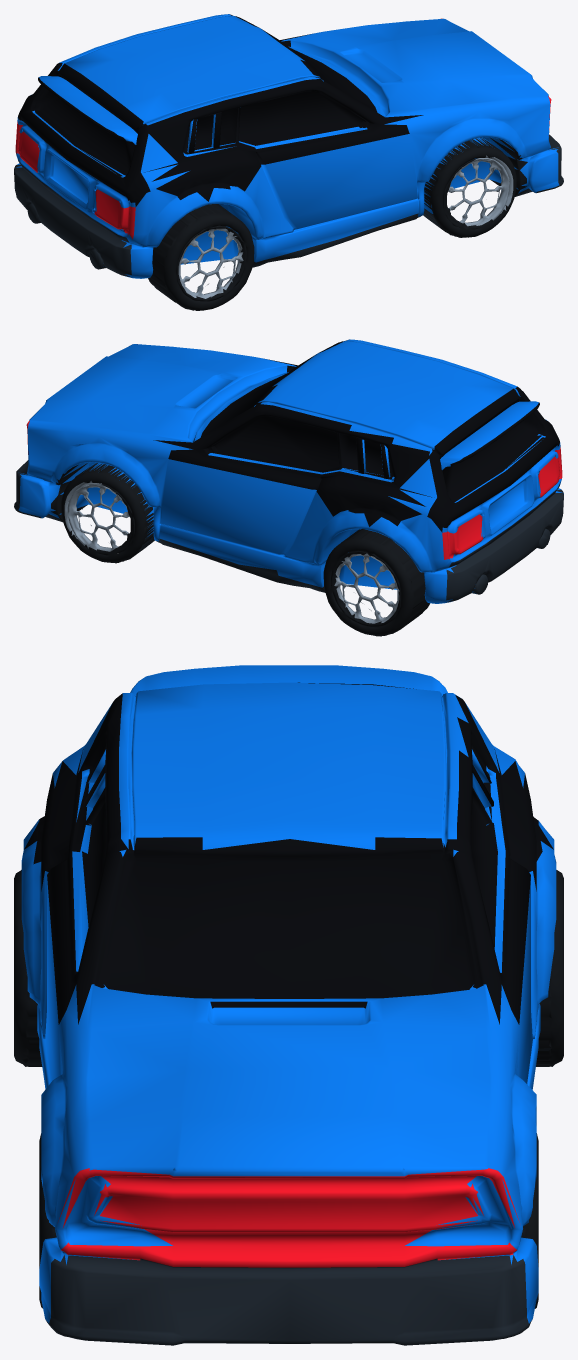
3 renders of one model, top to bottom at view 1: azimuth 30°, elevation 25°; view 2: azimuth 150°, elevation 25°; view 3: azimuth 270°, elevation 25°, orthographic. The views are drawn at different scales.
Visible parts, largest first — view 1: Spectre_body_paint, Spectre_body_glass, Spectre_body_trim, Spectre_wheel_BR__rubber, Spectre_wheel_FR__rubber, Spectre_wheel_FR__metal, Spectre_body_taillight, Spectre_wheel_BR__metal; view 2: Spectre_body_paint, Spectre_body_glass, Spectre_body_trim, Spectre_wheel_BL__rubber, Spectre_wheel_FL__rubber, Spectre_wheel_FL__metal, Spectre_body_taillight, Spectre_wheel_BL__metal; view 3: Spectre_body_paint, Spectre_body_glass, Spectre_body_trim, Spectre_body_headlight, Spectre_wheel_BL__rubber, Spectre_wheel_BR__rubber.
Part boxes in pixels (x1=…): Spectre_body_paint: x1=16, y1=14, x2=559, y2=278; Spectre_body_glass: x1=18, y1=14, x2=423, y2=206; Spectre_body_trim: x1=14, y1=134, x2=563, y2=284; Spectre_wheel_BR__rubber: x1=148, y1=204, x2=254, y2=310; Spectre_wheel_FR__rubber: x1=424, y1=137, x2=527, y2=237; Spectre_wheel_FR__metal: x1=448, y1=155, x2=513, y2=226; Spectre_body_taillight: x1=15, y1=121, x2=135, y2=239; Spectre_wheel_BR__metal: x1=178, y1=228, x2=243, y2=298; Spectre_body_paint: x1=18, y1=339, x2=563, y2=603; Spectre_body_glass: x1=153, y1=340, x2=559, y2=532; Spectre_body_trim: x1=14, y1=460, x2=563, y2=610; Spectre_wheel_BL__rubber: x1=323, y1=529, x2=429, y2=636; Spectre_wheel_FL__rubber: x1=51, y1=463, x2=153, y2=563; Spectre_wheel_FL__metal: x1=64, y1=481, x2=129, y2=551; Spectre_body_taillight: x1=442, y1=447, x2=562, y2=559; Spectre_wheel_BL__metal: x1=334, y1=553, x2=399, y2=623; Spectre_body_paint: x1=21, y1=665, x2=556, y2=1323; Spectre_body_glass: x1=24, y1=682, x2=553, y2=1024; Spectre_body_trim: x1=45, y1=1048, x2=551, y2=1345; Spectre_body_headlight: x1=58, y1=1168, x2=519, y2=1267; Spectre_wheel_BL__rubber: x1=536, y1=870, x2=563, y2=1066; Spectre_wheel_BR__rubber: x1=14, y1=870, x2=42, y2=1066.
Size of the model in its own units: 145 by 56.92 by 80.15.
